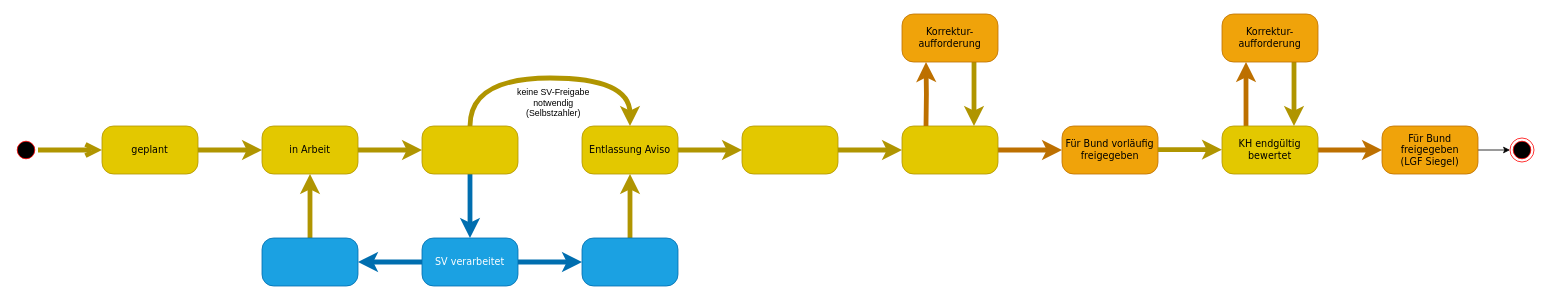
This 1548x300 diagram has some shape labels left out. Each missing label, with the centre of its shape:
abgelehnt: point (309, 261)
Entlassung vollständig: point (789, 149)
freigegeben: point (469, 149)
KH vorläufig bewertet: point (949, 149)
übernommen: point (629, 261)
